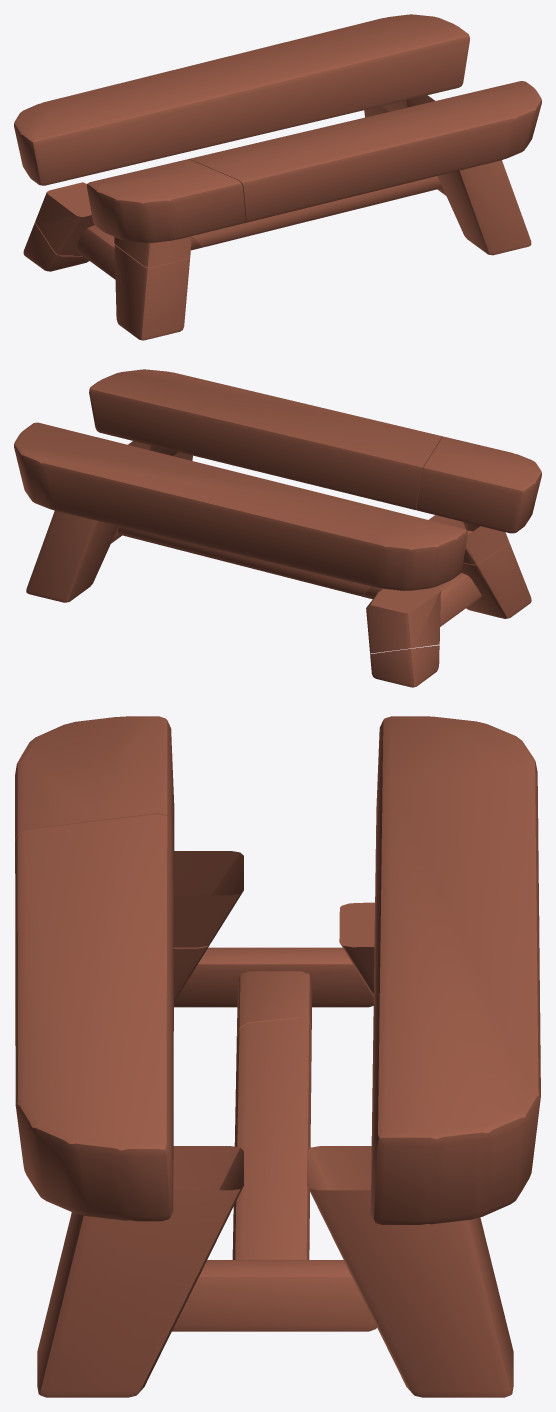
File: bench_destroyedVersion.fbx
3 renders of one model, top to bottom at view 1: azimuth 30°, elevation 25°; view 2: azimuth 150°, elevation 25°; view 3: azimuth 270°, elevation 25°, orthographic. The views are drawn at different scales.
Visible parts, largest first — view 1: bench_cell.003, bench_cell.009, bench_cell.001, bench_cell.012, bench_cell.006, bench_cell.010, bench_cell.008, bench_cell.005, bench_cell.007, bench_cell.004, bench_cell.011; view 2: bench_cell.003, bench_cell.009, bench_cell.001, bench_cell.011, bench_cell.008, bench_cell.006, bench_cell.010, bench_cell.004, bench_cell.005, bench_cell.007; view 3: bench_cell.003, bench_cell.009, bench_cell.012, bench_cell.011, bench_cell.010, bench_cell.001, bench_cell.013, bench_cell.007, bench_cell.005, bench_cell.002, bench_cell.008, bench_cell.006.
Part boxes in pixels (box(x1,y1,x2,y2)): bench_cell.003: box(14, 14, 469, 185); bench_cell.009: box(188, 81, 541, 222); bench_cell.001: box(86, 159, 245, 242); bench_cell.012: box(437, 160, 531, 255); bench_cell.006: box(114, 244, 189, 340); bench_cell.010: box(192, 176, 441, 247); bench_cell.008: box(35, 182, 94, 255); bench_cell.005: box(114, 236, 191, 267); bench_cell.007: box(76, 225, 115, 279); bench_cell.004: box(23, 221, 89, 271); bench_cell.011: box(364, 95, 434, 117); bench_cell.003: box(14, 422, 467, 590); bench_cell.009: box(89, 369, 442, 509); bench_cell.001: box(416, 436, 541, 533); bench_cell.011: box(26, 511, 118, 602); bench_cell.008: box(366, 587, 440, 653); bench_cell.006: box(461, 542, 531, 618); bench_cell.010: box(118, 526, 371, 595); bench_cell.004: box(370, 645, 439, 687); bench_cell.005: box(429, 515, 508, 564); bench_cell.007: box(435, 573, 481, 626); bench_cell.003: box(370, 716, 540, 1224); bench_cell.009: box(15, 814, 174, 1221); bench_cell.012: box(37, 1146, 243, 1397); bench_cell.011: box(307, 1146, 513, 1397); bench_cell.010: box(232, 1017, 311, 1259); bench_cell.001: box(15, 716, 174, 899); bench_cell.013: box(172, 1260, 376, 1331); bench_cell.007: box(174, 947, 373, 1007); bench_cell.005: box(174, 851, 243, 947); bench_cell.002: box(236, 971, 312, 1038); bench_cell.008: box(339, 902, 374, 996); bench_cell.006: box(174, 943, 210, 1001).
Bounding box in the file's own units: 144 × 45.56 × 75.31.
